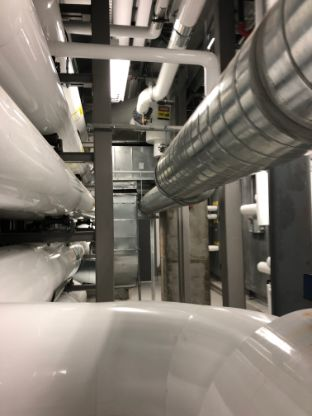Duct: (149, 1, 312, 209), (108, 142, 169, 294)
